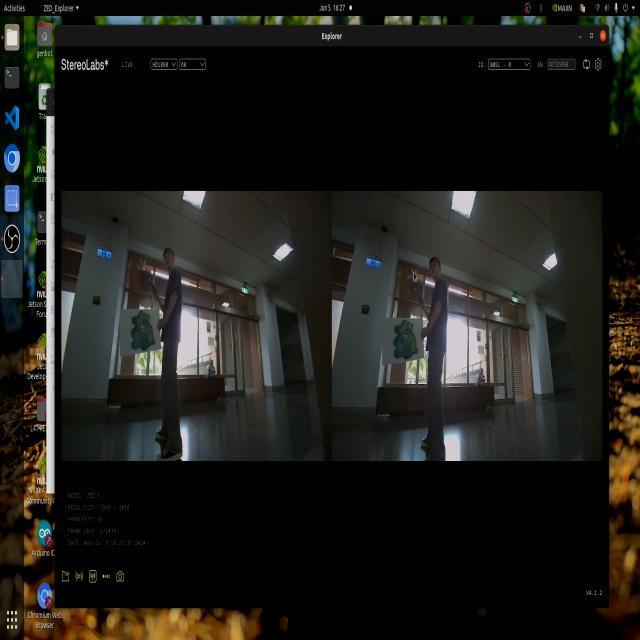green: (389, 319, 427, 364), (129, 308, 157, 348)
